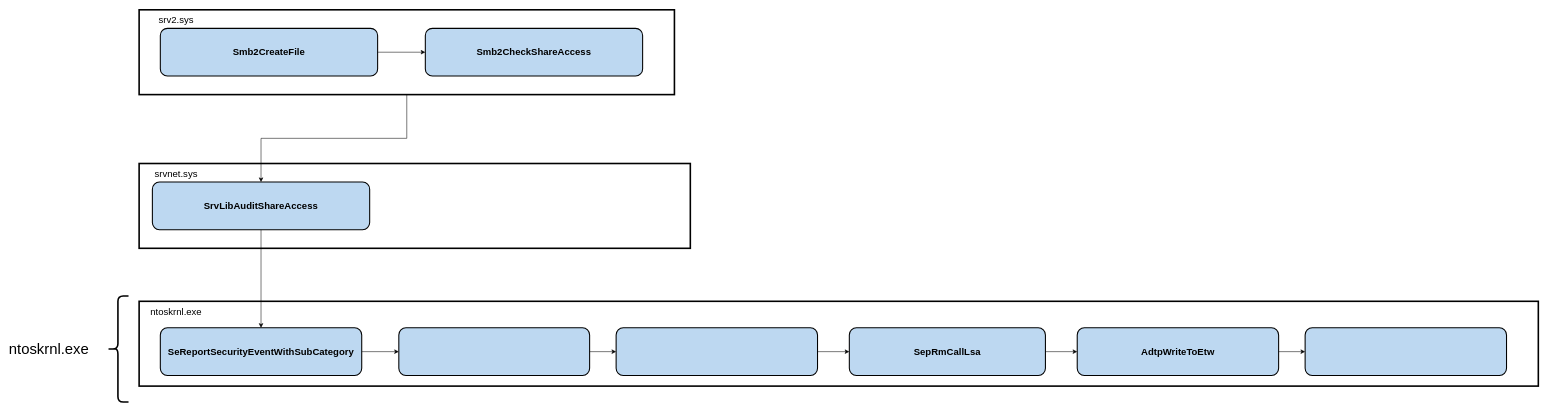
This 1548x412 diagram has some shape labels left out. Here are the shapes that lost their labels. From the top down, the box of each, then its label:
(398, 327, 590, 376): SepAdtLogAuditRecord
(615, 327, 818, 376): SepQueueWorkItem
(1304, 327, 1507, 376): EtwWriteKMSecurityEvent
